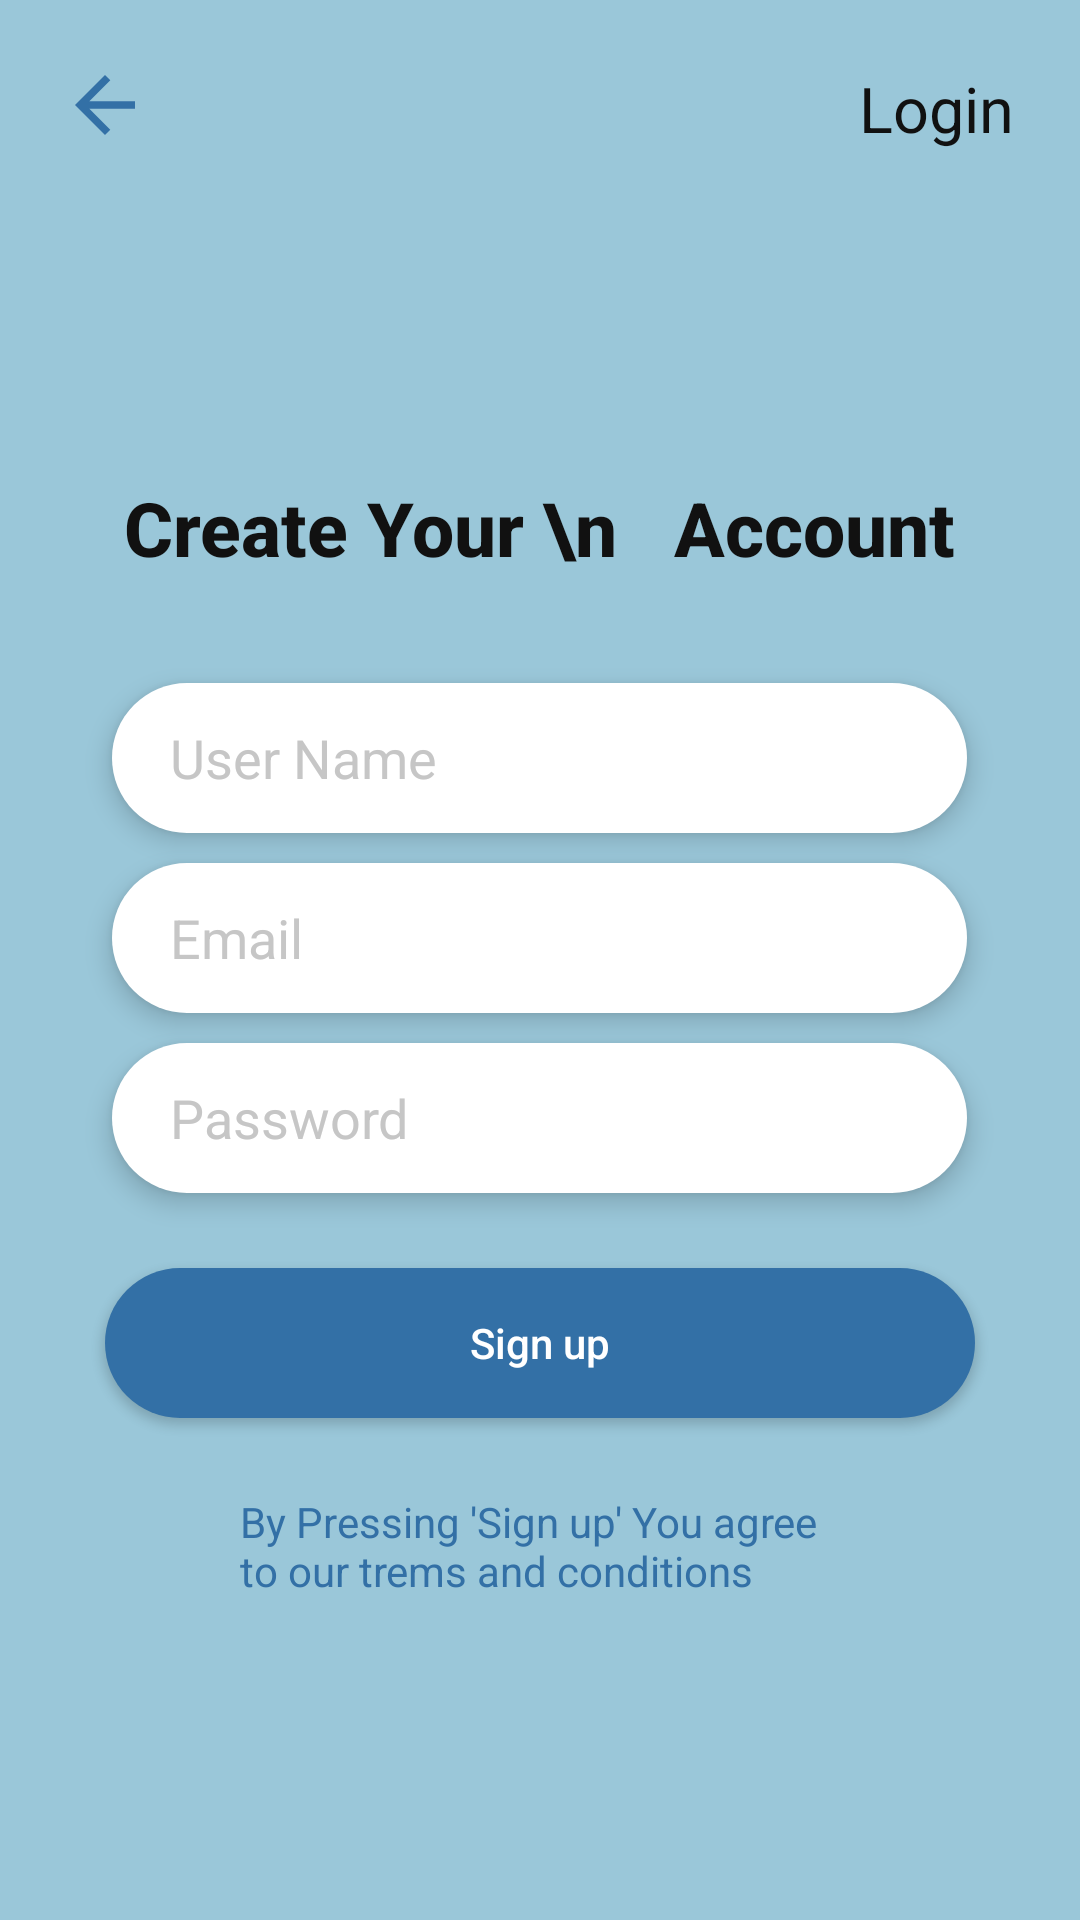

Where to tap for icons on this 1080×1920 app screen, as (x,y):
arrow back: (105,105)
